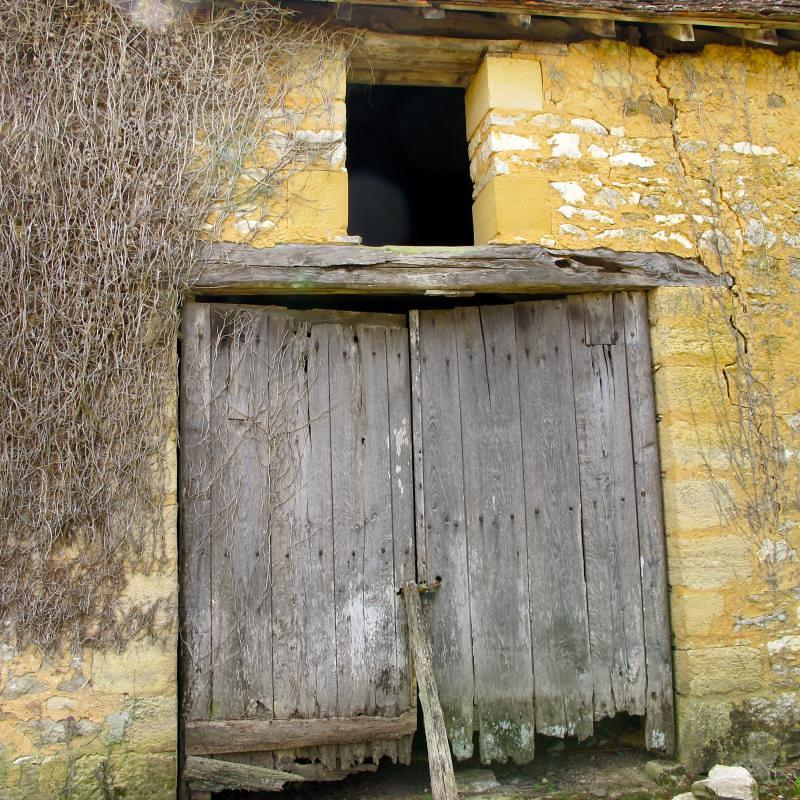door: (178, 286, 675, 772)
